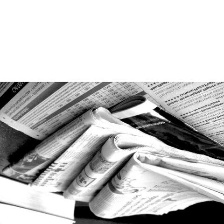news_paper: (0, 81, 224, 143), (0, 105, 162, 185), (60, 131, 224, 208), (26, 122, 178, 195), (86, 153, 224, 219)
